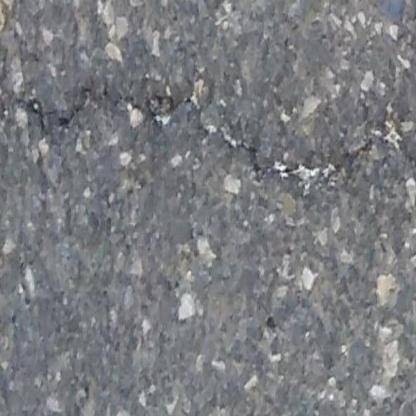Cracks: (0, 83, 416, 189)
